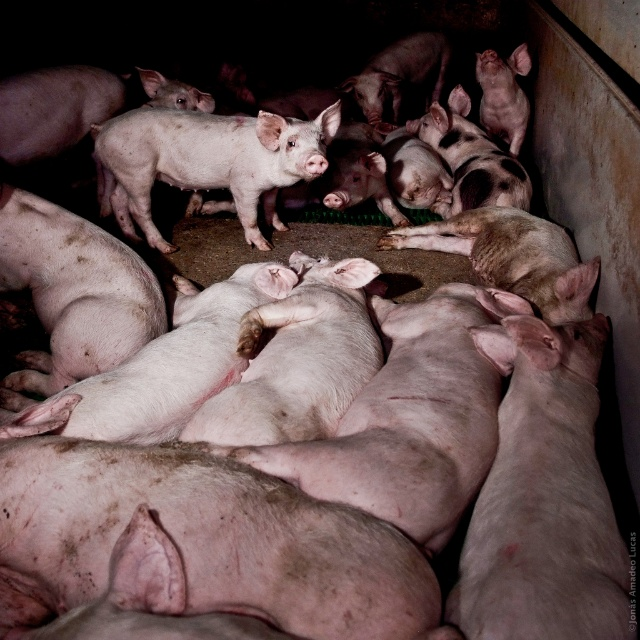Pig: (0, 28, 634, 639)
